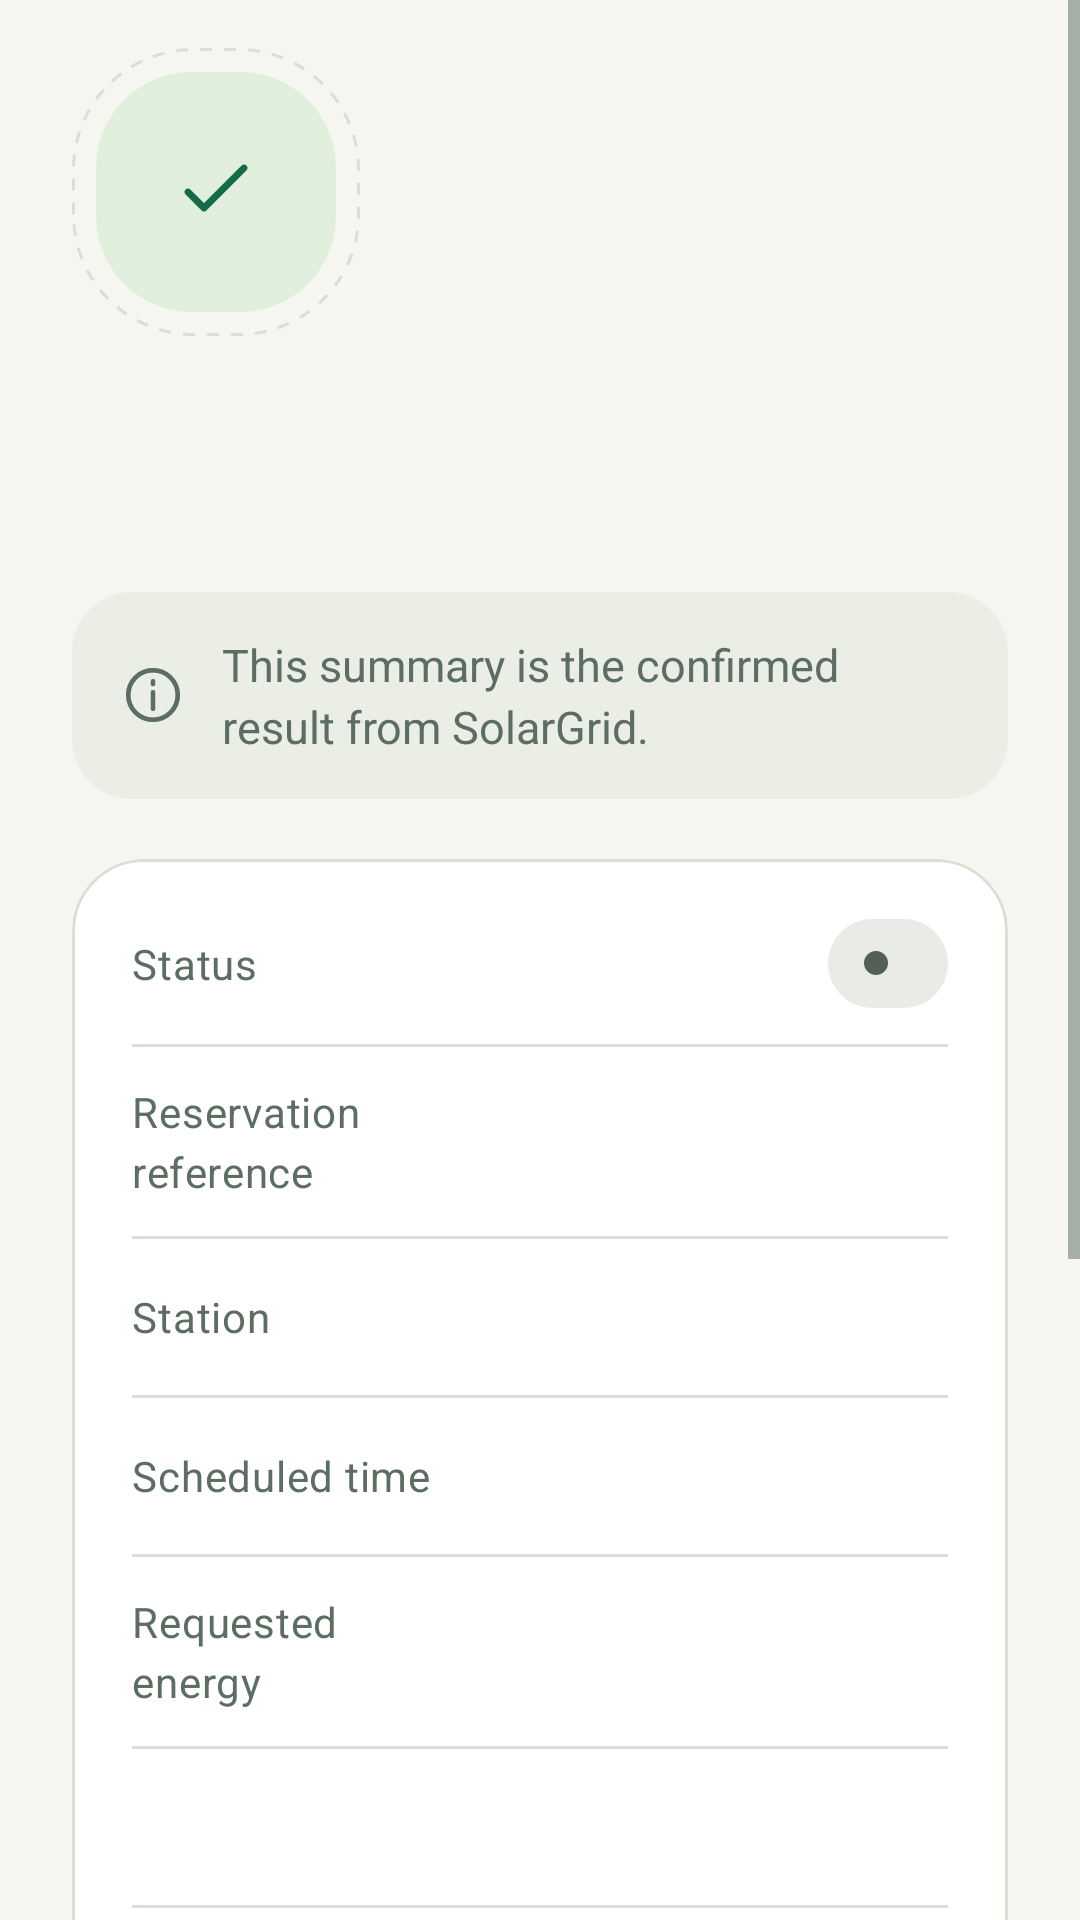

Screen size 1080 × 1920. Icon name, then its box in pixels as (x1, y1, x2, y2):
check: (96, 72, 336, 312)
